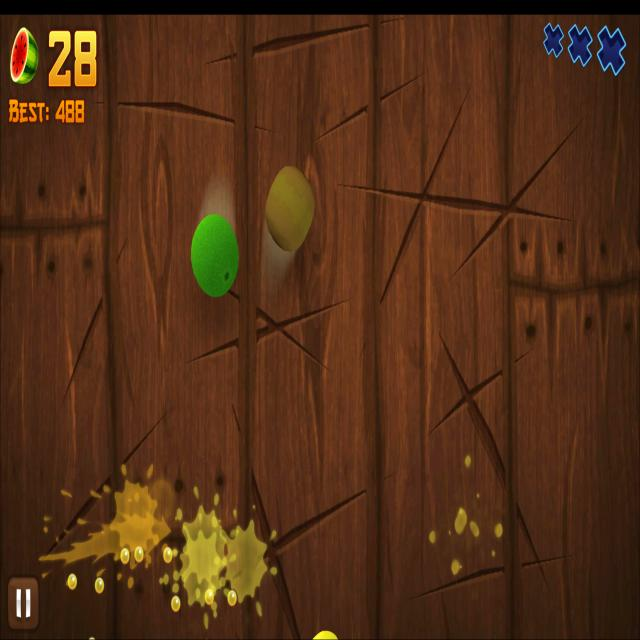fruit: (265, 165, 315, 252), (190, 213, 240, 298)
